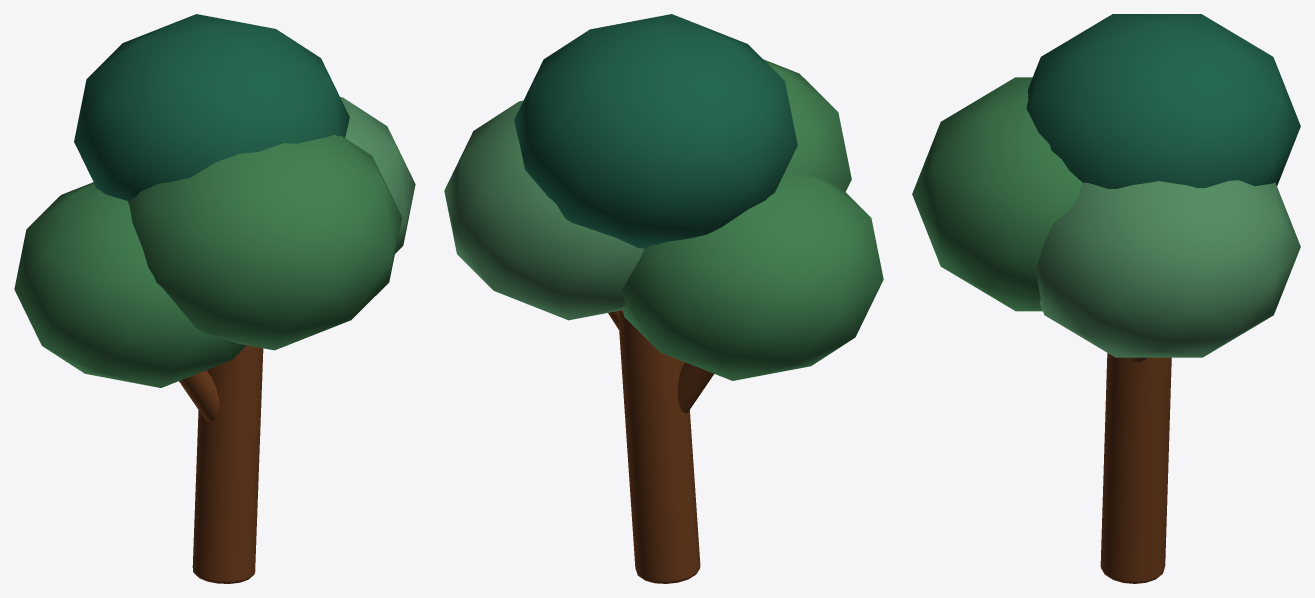
The model's file is tree_round.glb.
3 renders of one model, left to right at view 1: azimuth 30°, elevation 25°; view 2: azimuth 150°, elevation 25°; view 3: azimuth 270°, elevation 25°, orthographic. The views are drawn at different scales.
Visible parts, largest first — view 1: round_canopy.002, round_canopy.003, round_canopy, tree_trunk, round_canopy.001, tree_branch; view 2: round_canopy.003, round_canopy, round_canopy.001, tree_trunk, round_canopy.002, tree_branch; view 3: round_canopy.003, round_canopy.001, round_canopy.002, tree_trunk.
Part boxes in pixels (bbox=[...]): round_canopy.002: bbox=[127, 134, 402, 350]; round_canopy.003: bbox=[74, 14, 349, 200]; round_canopy: bbox=[14, 182, 246, 387]; tree_trunk: bbox=[192, 345, 263, 583]; round_canopy.001: bbox=[340, 97, 415, 253]; tree_branch: bbox=[179, 370, 219, 421]; round_canopy.003: bbox=[514, 14, 797, 248]; round_canopy: bbox=[621, 175, 883, 380]; round_canopy.001: bbox=[444, 100, 643, 320]; tree_trunk: bbox=[618, 310, 700, 583]; round_canopy.002: bbox=[763, 59, 851, 191]; tree_branch: bbox=[677, 362, 713, 413]; round_canopy.003: bbox=[1026, 14, 1300, 188]; round_canopy.001: bbox=[1036, 180, 1300, 357]; round_canopy.002: bbox=[912, 77, 1082, 311]; tree_trunk: bbox=[1100, 353, 1171, 583].
Bounding box in the file's own units: 2.16 × 2.98 × 1.92.
